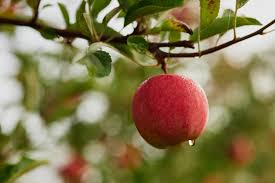apple: (131, 74, 210, 150)
